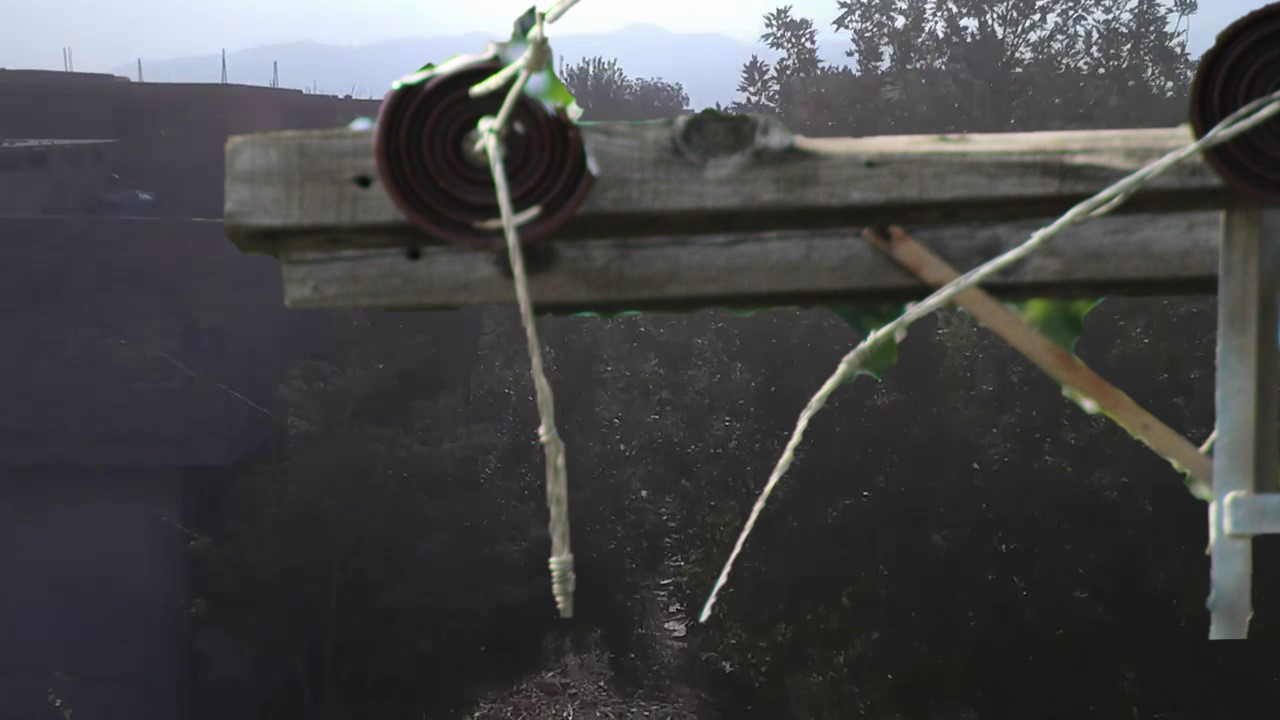defect_disc: (371, 39, 607, 250)
